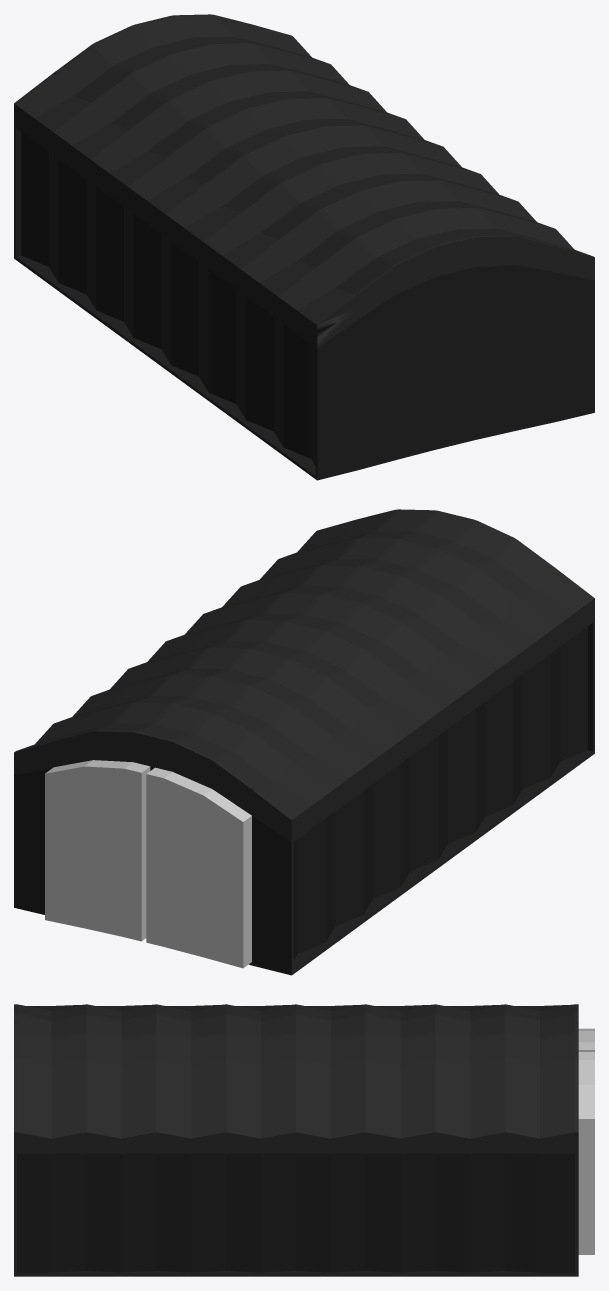
Rendered from WareHouse.fbx.
3 renders of one model, top to bottom at view 1: azimuth 30°, elevation 25°; view 2: azimuth 150°, elevation 25°; view 3: azimuth 270°, elevation 25°, orthographic. The views are drawn at different scales.
Visible parts, largest first — view 1: Storage_Shed_Cube.041; view 2: Storage_Shed_Cube.041; view 3: Storage_Shed_Cube.041.
Boxes of the visible parts, x1=… form: Storage_Shed_Cube.041: x1=14, y1=14, x2=594, y2=480; Storage_Shed_Cube.041: x1=14, y1=509, x2=594, y2=975; Storage_Shed_Cube.041: x1=14, y1=1004, x2=594, y2=1276.
Bounding box in the file's own units: 390 × 274 × 759.
